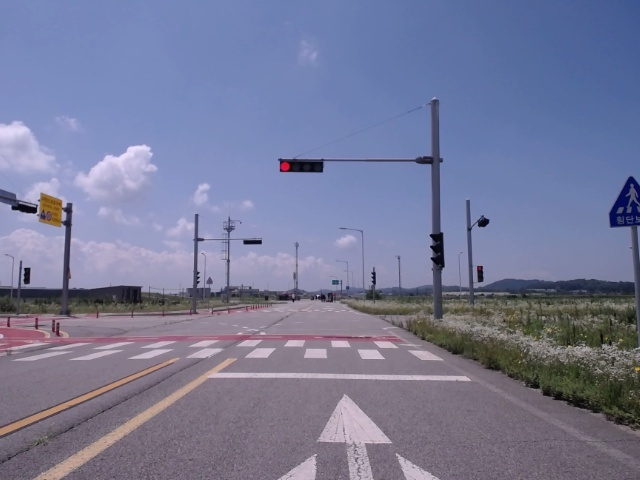red_4: (280, 161, 324, 173)
